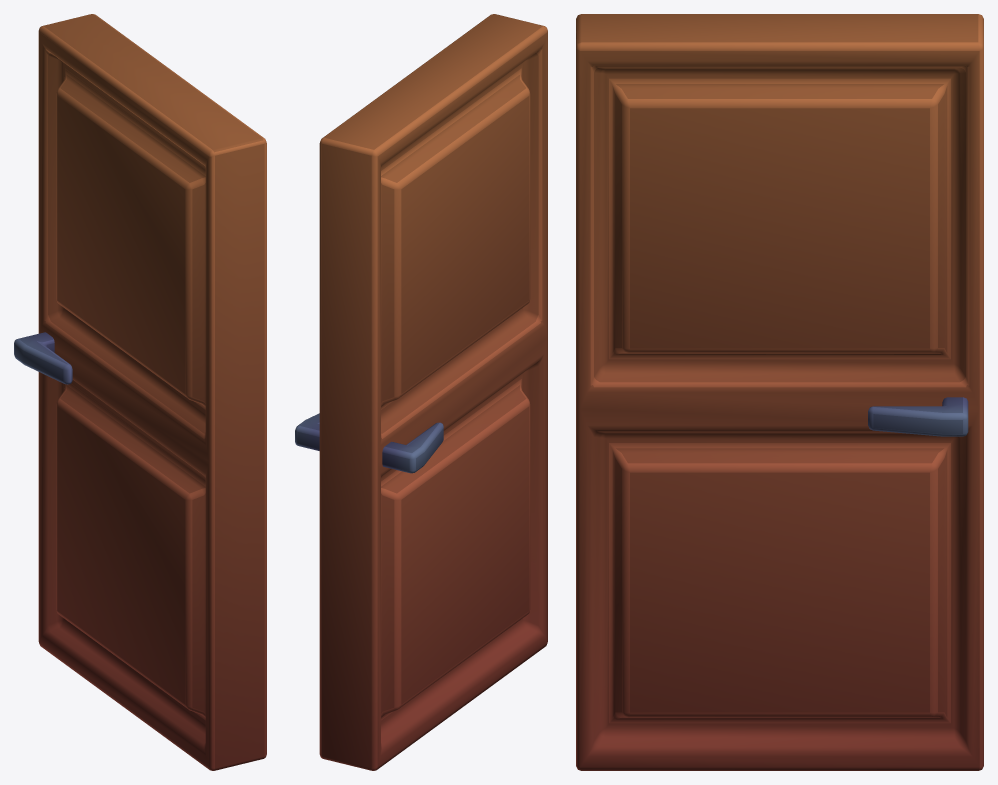
The model's file is door.fbx.
3 renders of one model, left to right at view 1: azimuth 30°, elevation 25°; view 2: azimuth 150°, elevation 25°; view 3: azimuth 270°, elevation 25°, orthographic. The views are drawn at different scales.
Parts seen in each view (by area): view 1: door; view 2: door; view 3: door.
Part boxes in pixels (x1,y1,x2,y2): door: (14, 14, 266, 770); door: (295, 14, 547, 770); door: (576, 14, 983, 770).
Bounding box in the file's own units: 125 × 617 × 313.
